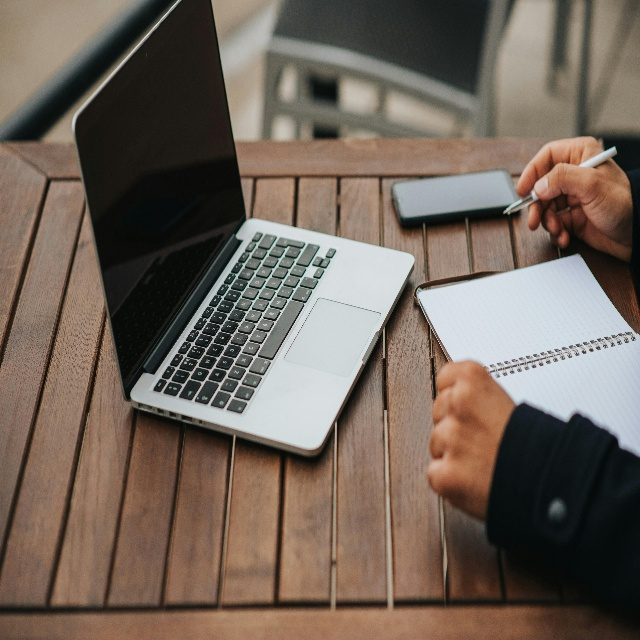Sin_guantes: (425, 360, 516, 528), (515, 129, 632, 258)
